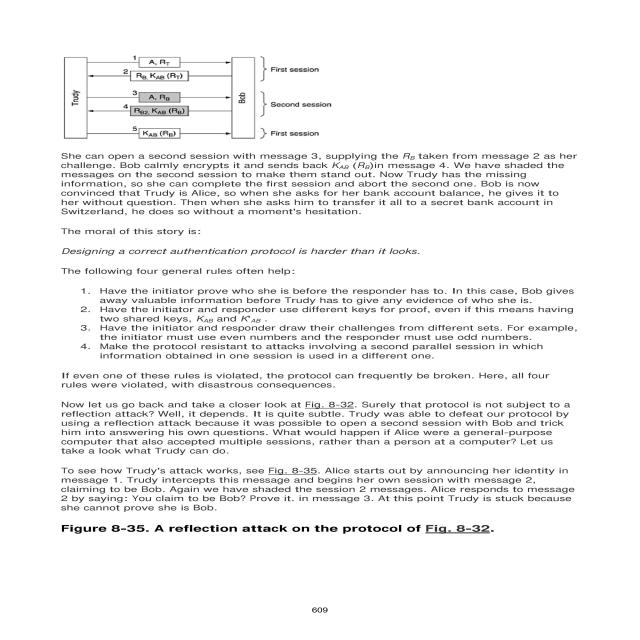diagram: (48, 41, 382, 149)
